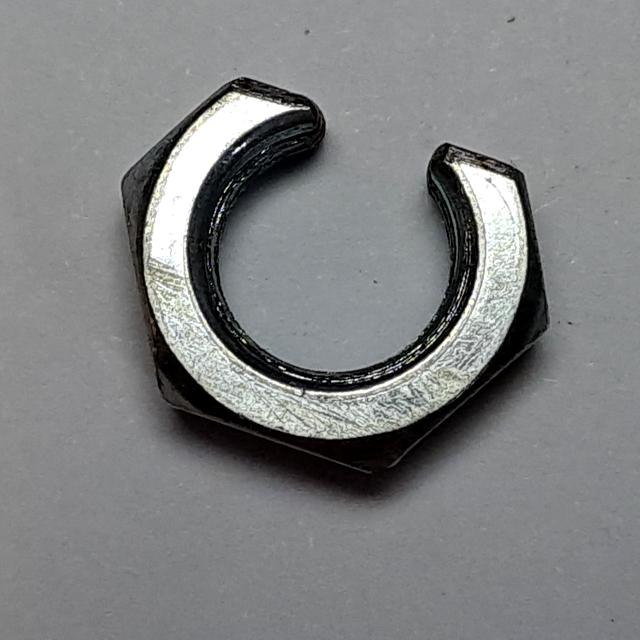Fracture: (109, 64, 569, 488)
